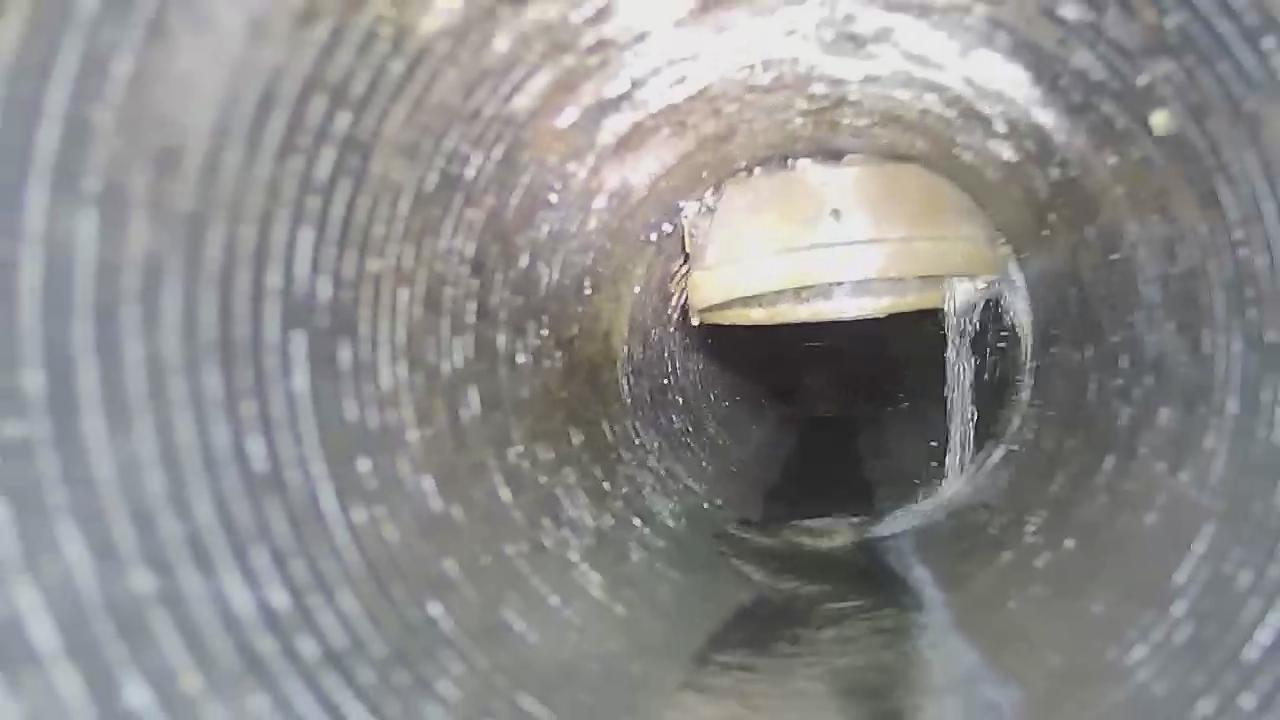ZGAJ: (684, 154, 1014, 325)
